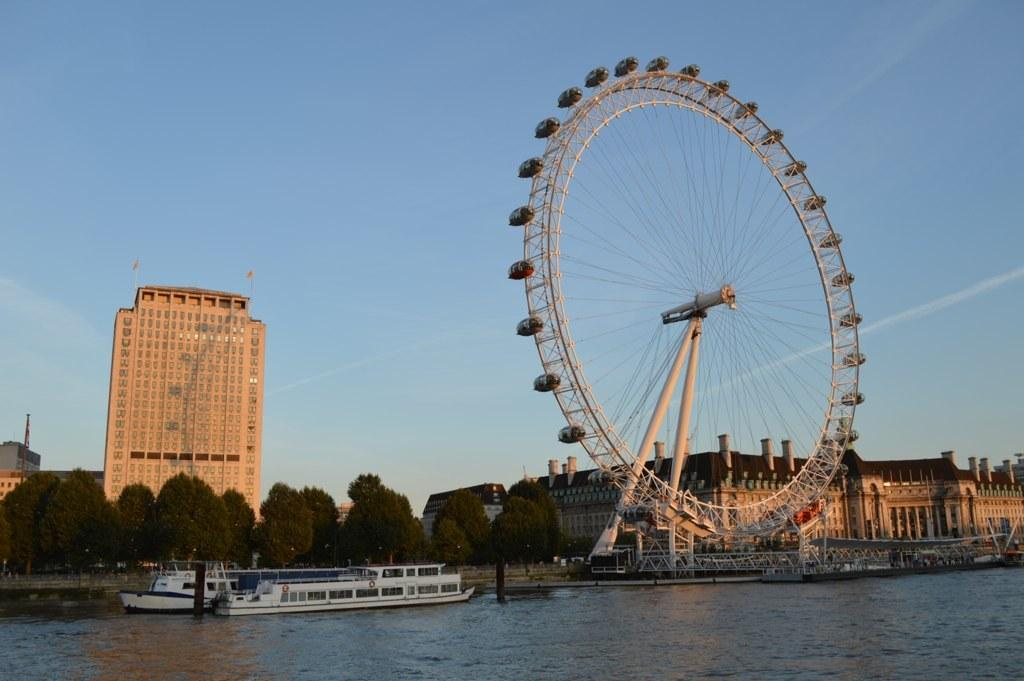PassengerShip: (210, 563, 480, 614), (114, 566, 234, 626)
